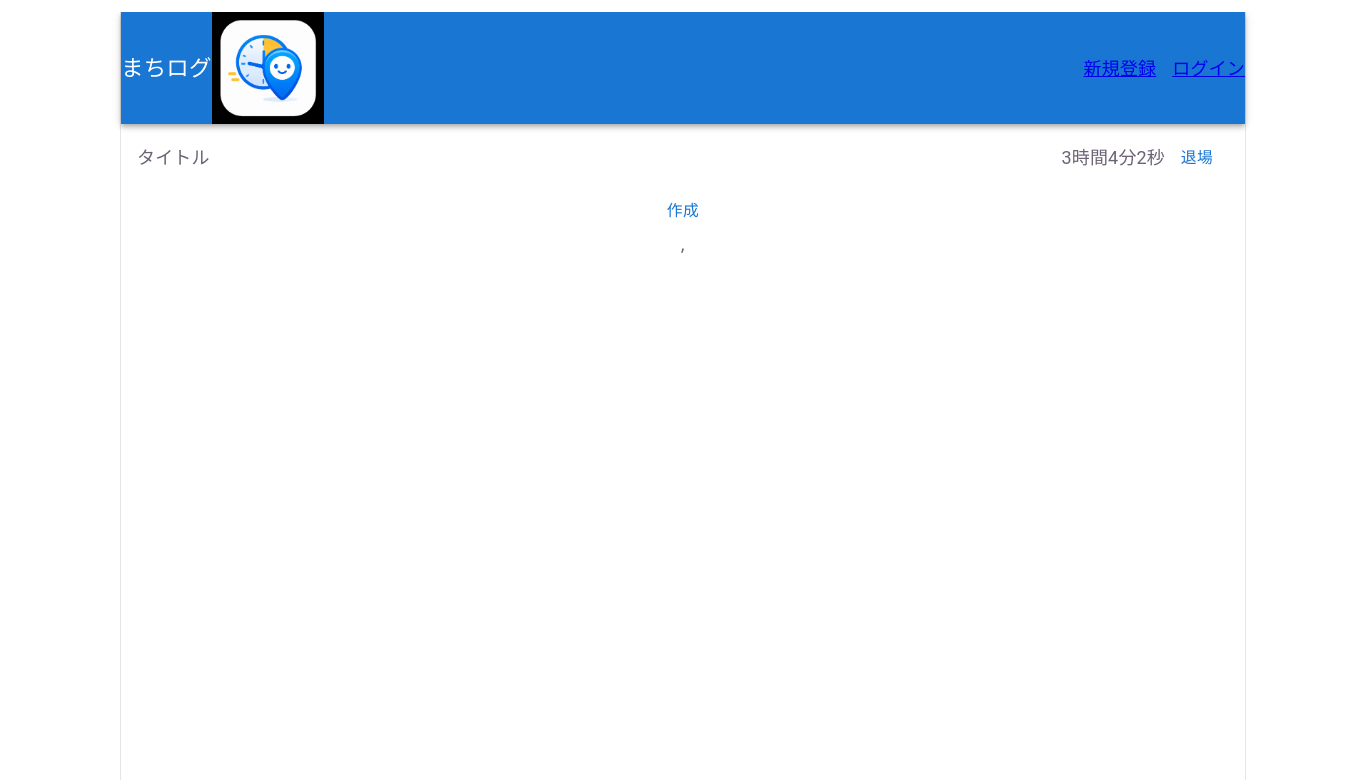
入退場 › 入場中 › 退場ボタンをクリックすると、ローディングが表示される
The image size is (1366, 780).
Click the button "退場".
click(1197, 158)  # box [1165, 138, 1229, 178]
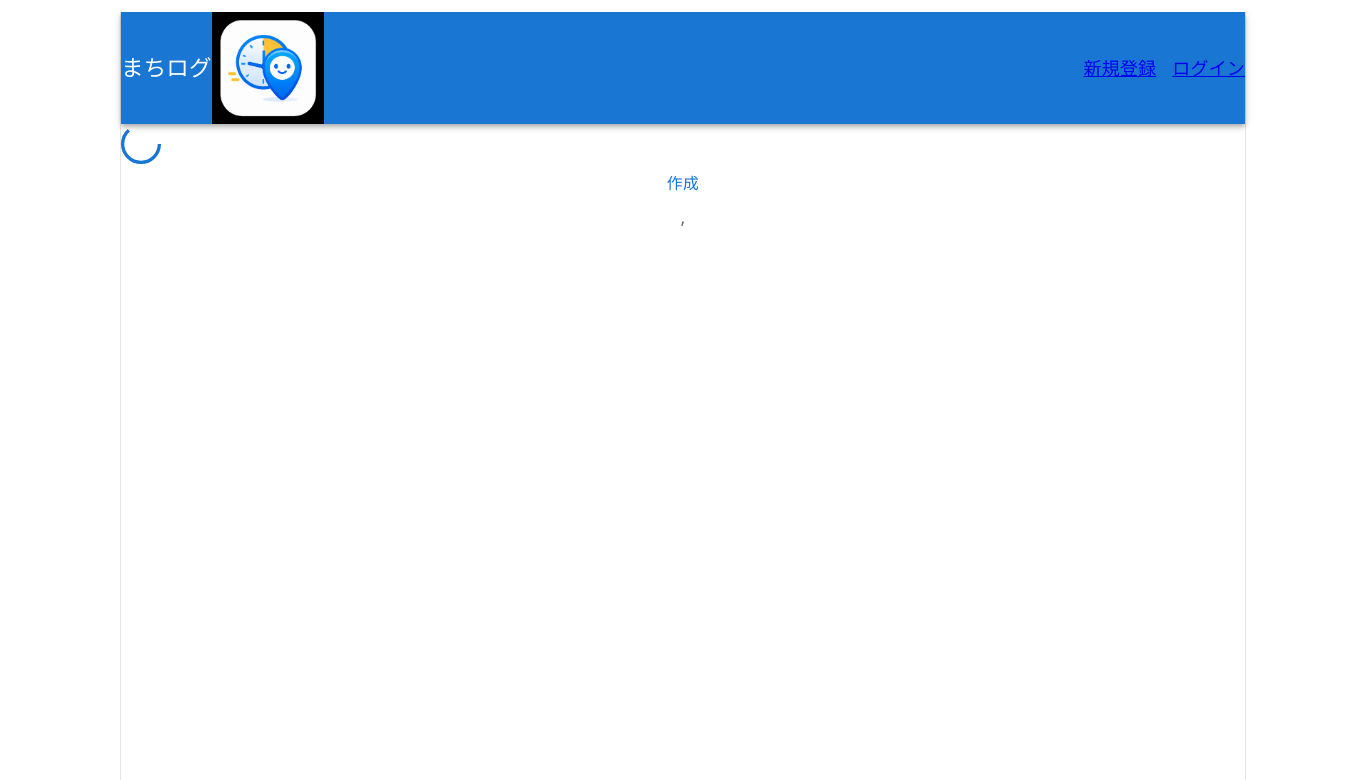
Expected: the progress indicator is shown, [121, 124, 161, 164]
